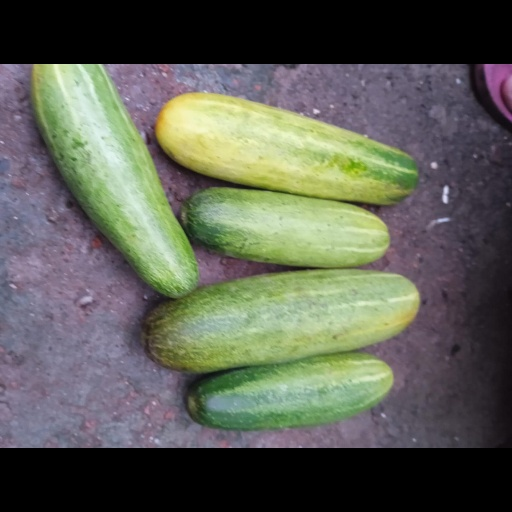concombre: (30, 65, 198, 299), (154, 93, 418, 205), (142, 269, 421, 373), (179, 186, 391, 269), (184, 351, 394, 430)
